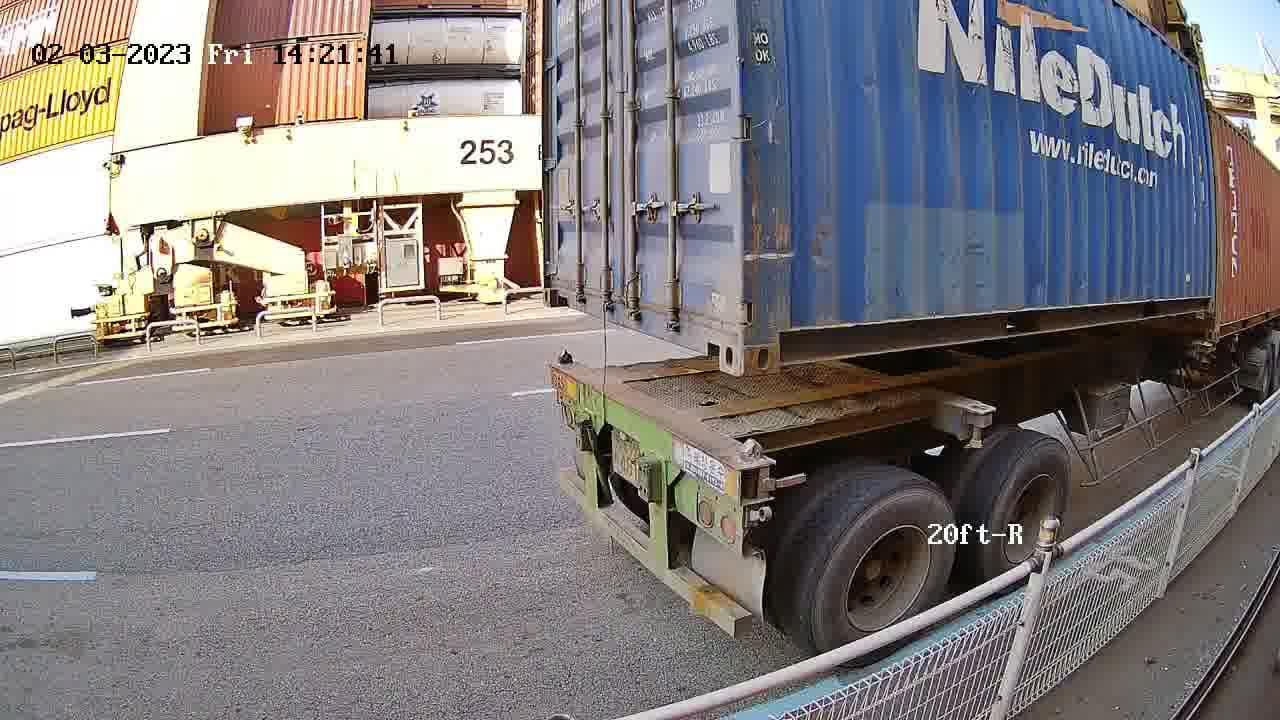Chassis: (550, 358, 779, 506)
Cone: (734, 436, 768, 501), (553, 346, 576, 365)
Hole_L: (741, 297, 821, 376), (542, 262, 576, 311)
Hole_R: (691, 296, 741, 376)
Tire: (812, 481, 962, 667), (984, 435, 1073, 589)
